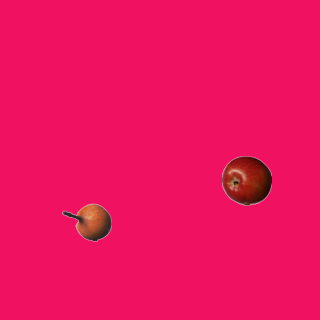Apple Braeburn: (221, 155, 271, 205)
Granadilla: (61, 197, 111, 247)
